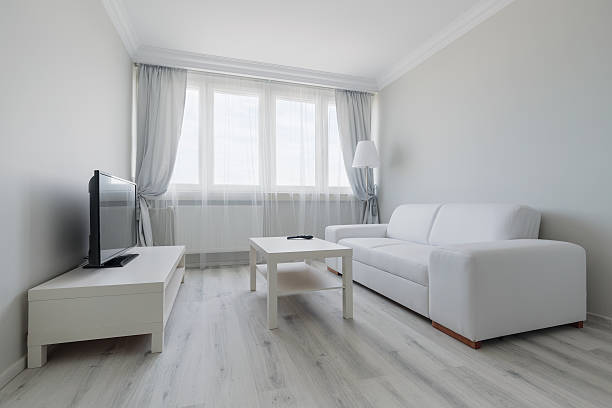TV: (84, 167, 140, 270)
TV stand: (21, 241, 189, 370)
floor lamp: (351, 137, 382, 223)
sofa: (322, 197, 590, 352)
table: (247, 234, 355, 332)
